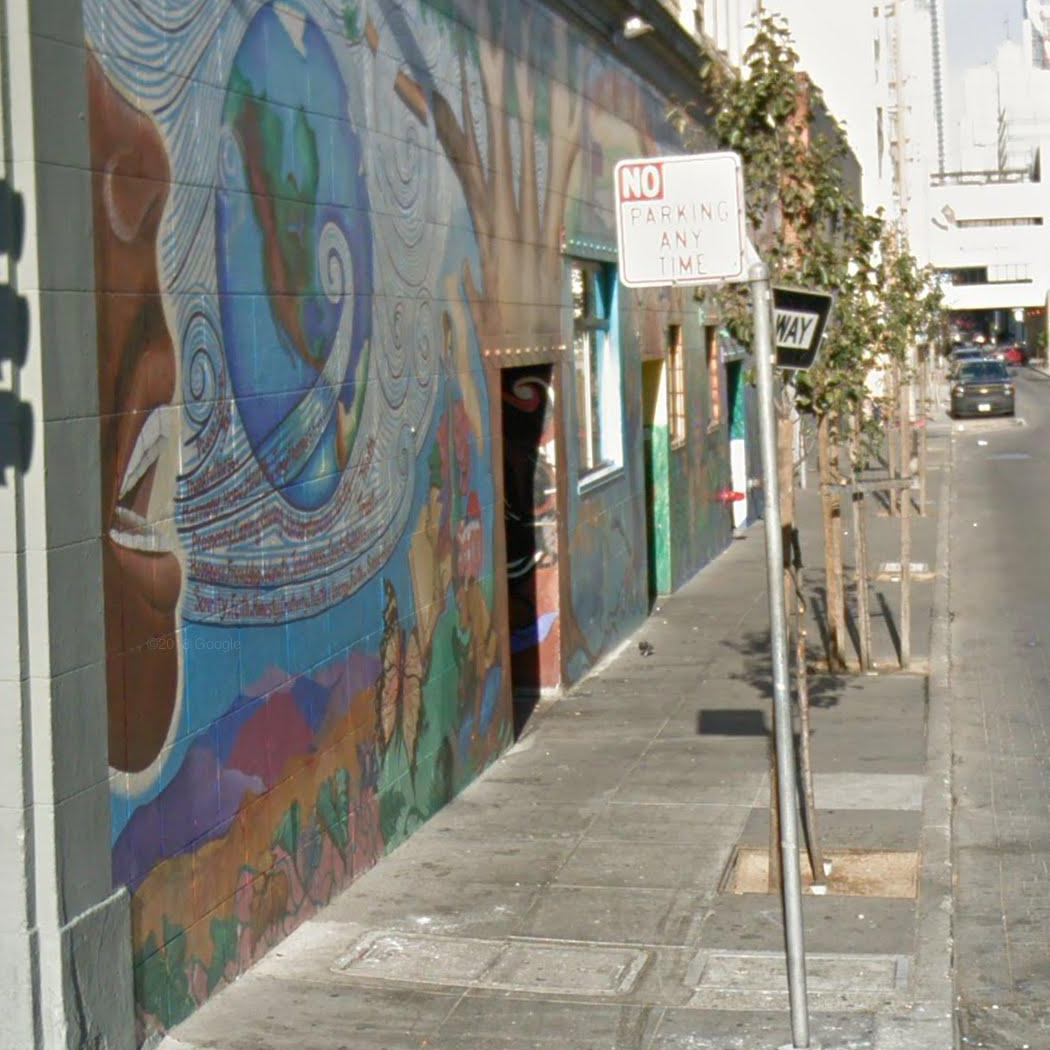No Parking: (610, 146, 753, 293)
